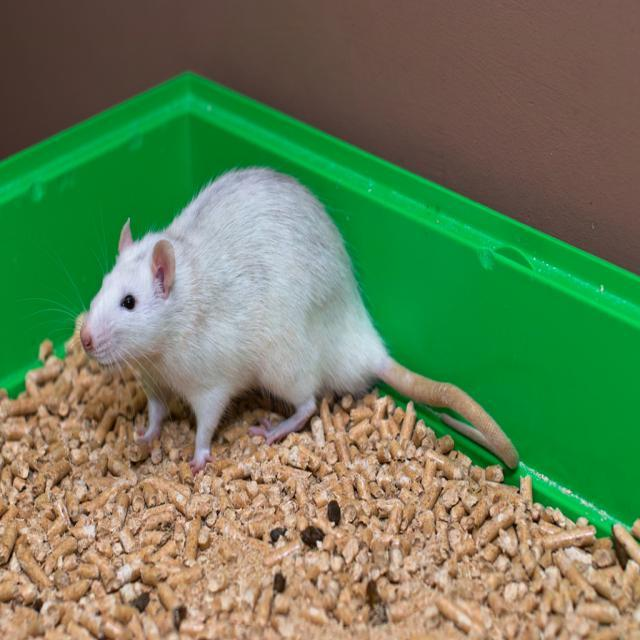rat: (29, 165, 520, 471)
